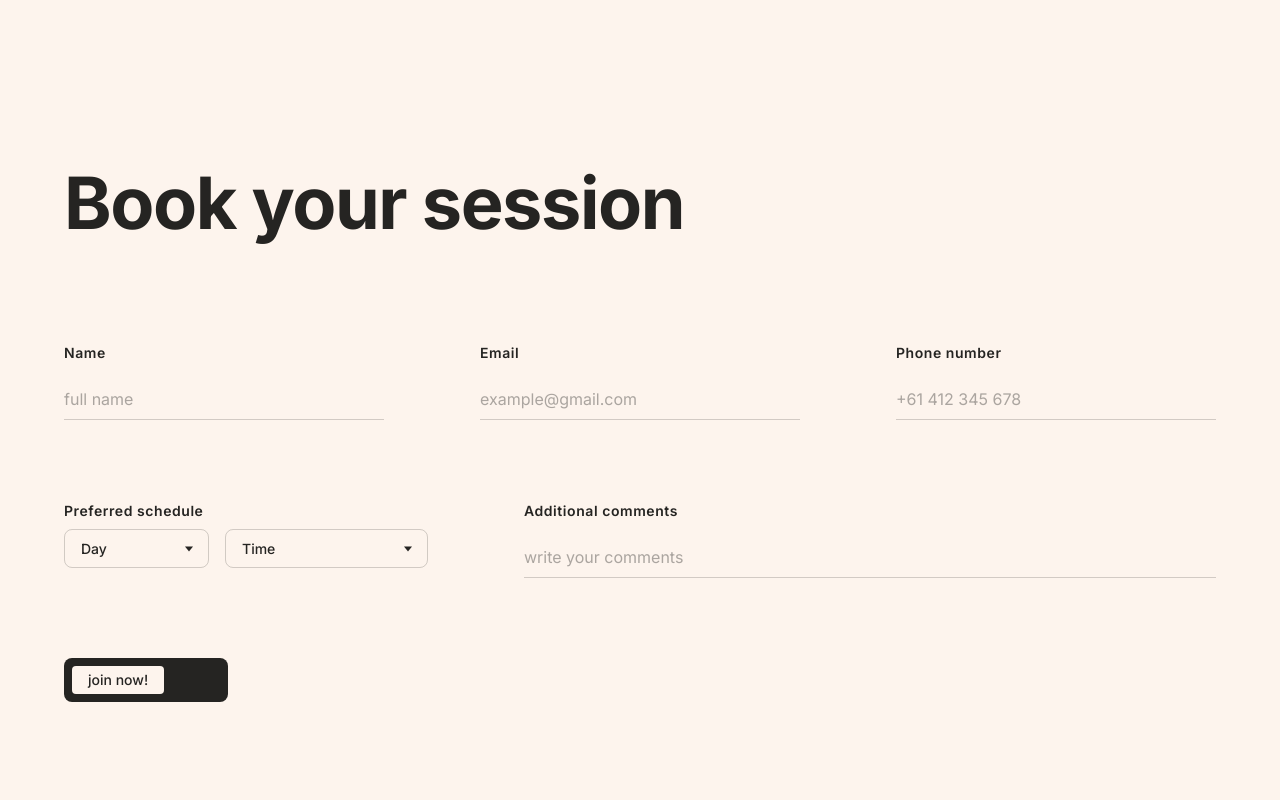
BookingSection › shows error when email is empty on submit
Type "Jane Smith" into the field labelled "Name" at {"x": 224, "y": 400}, box [64, 379, 384, 420]
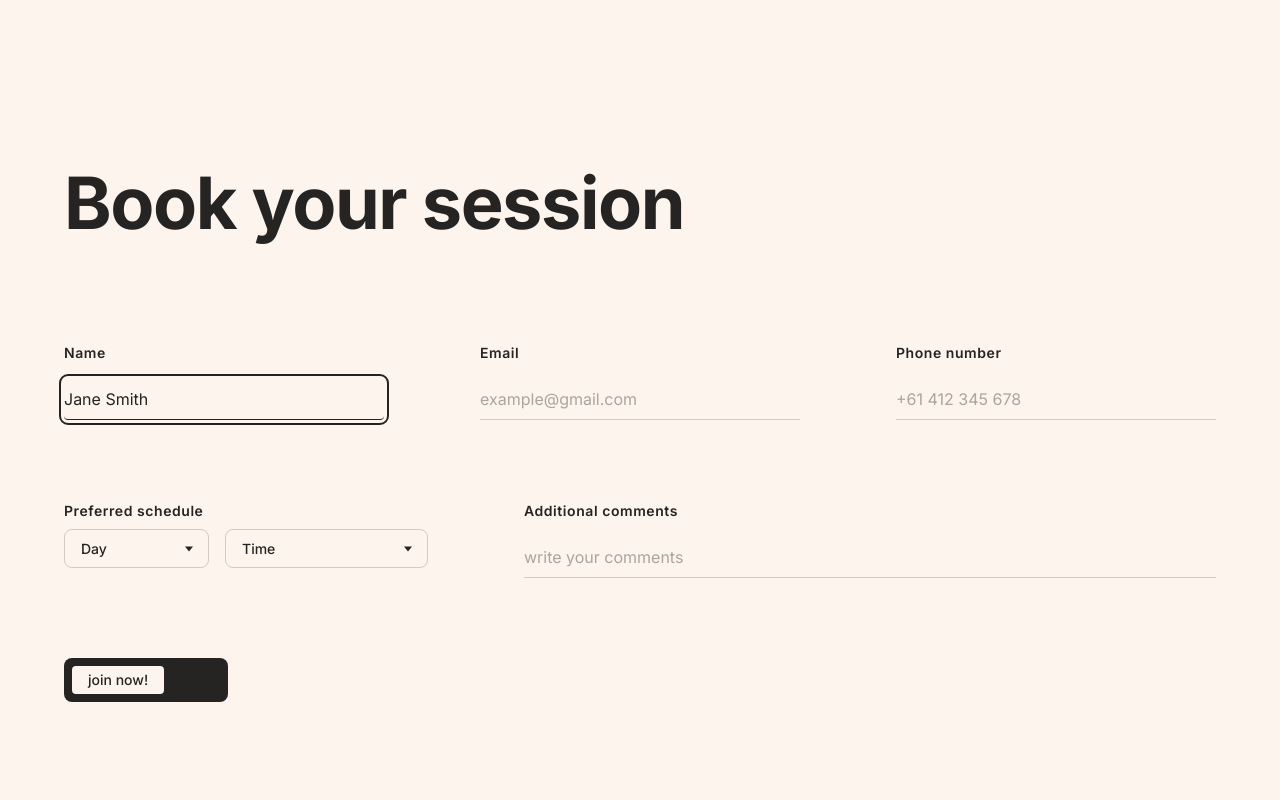
Click the button "join now!" at {"x": 146, "y": 680}, box [64, 658, 228, 702]
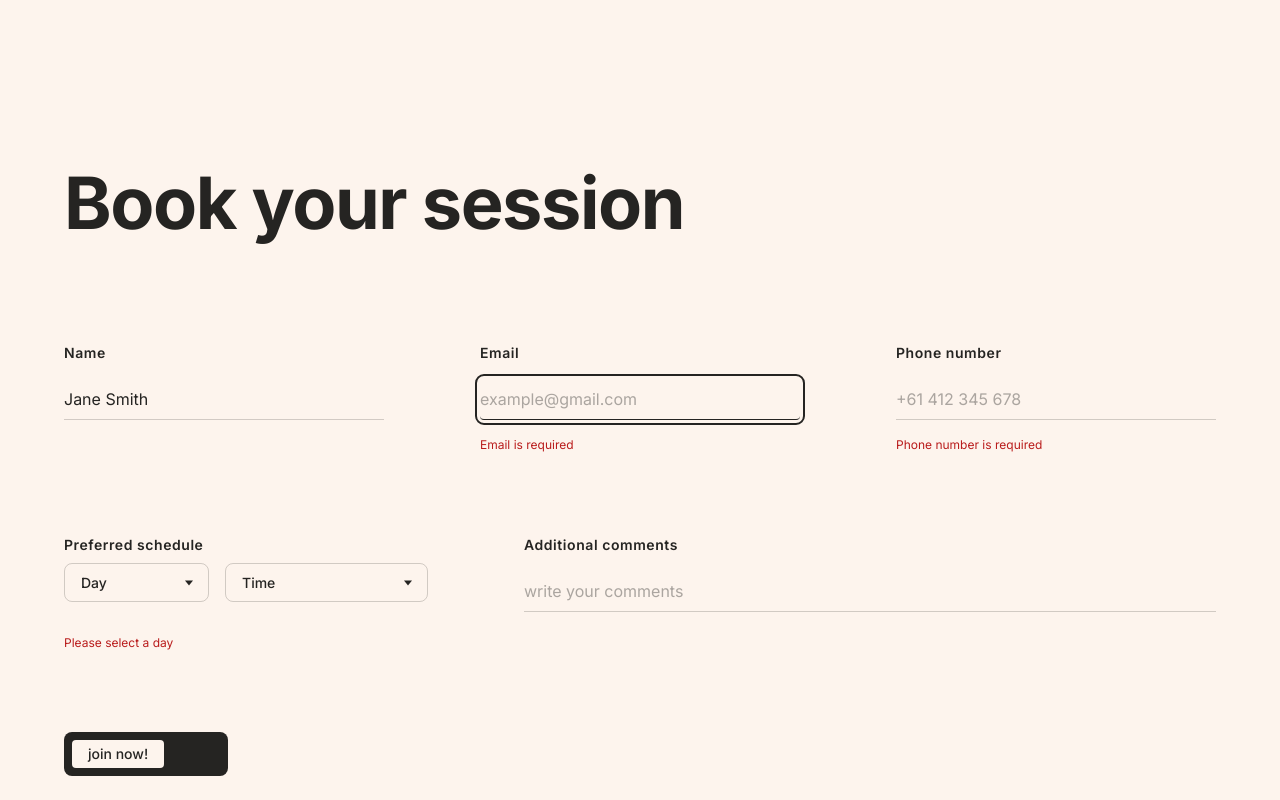
Result: the text "Email is required" is shown at [480, 437, 574, 452]
